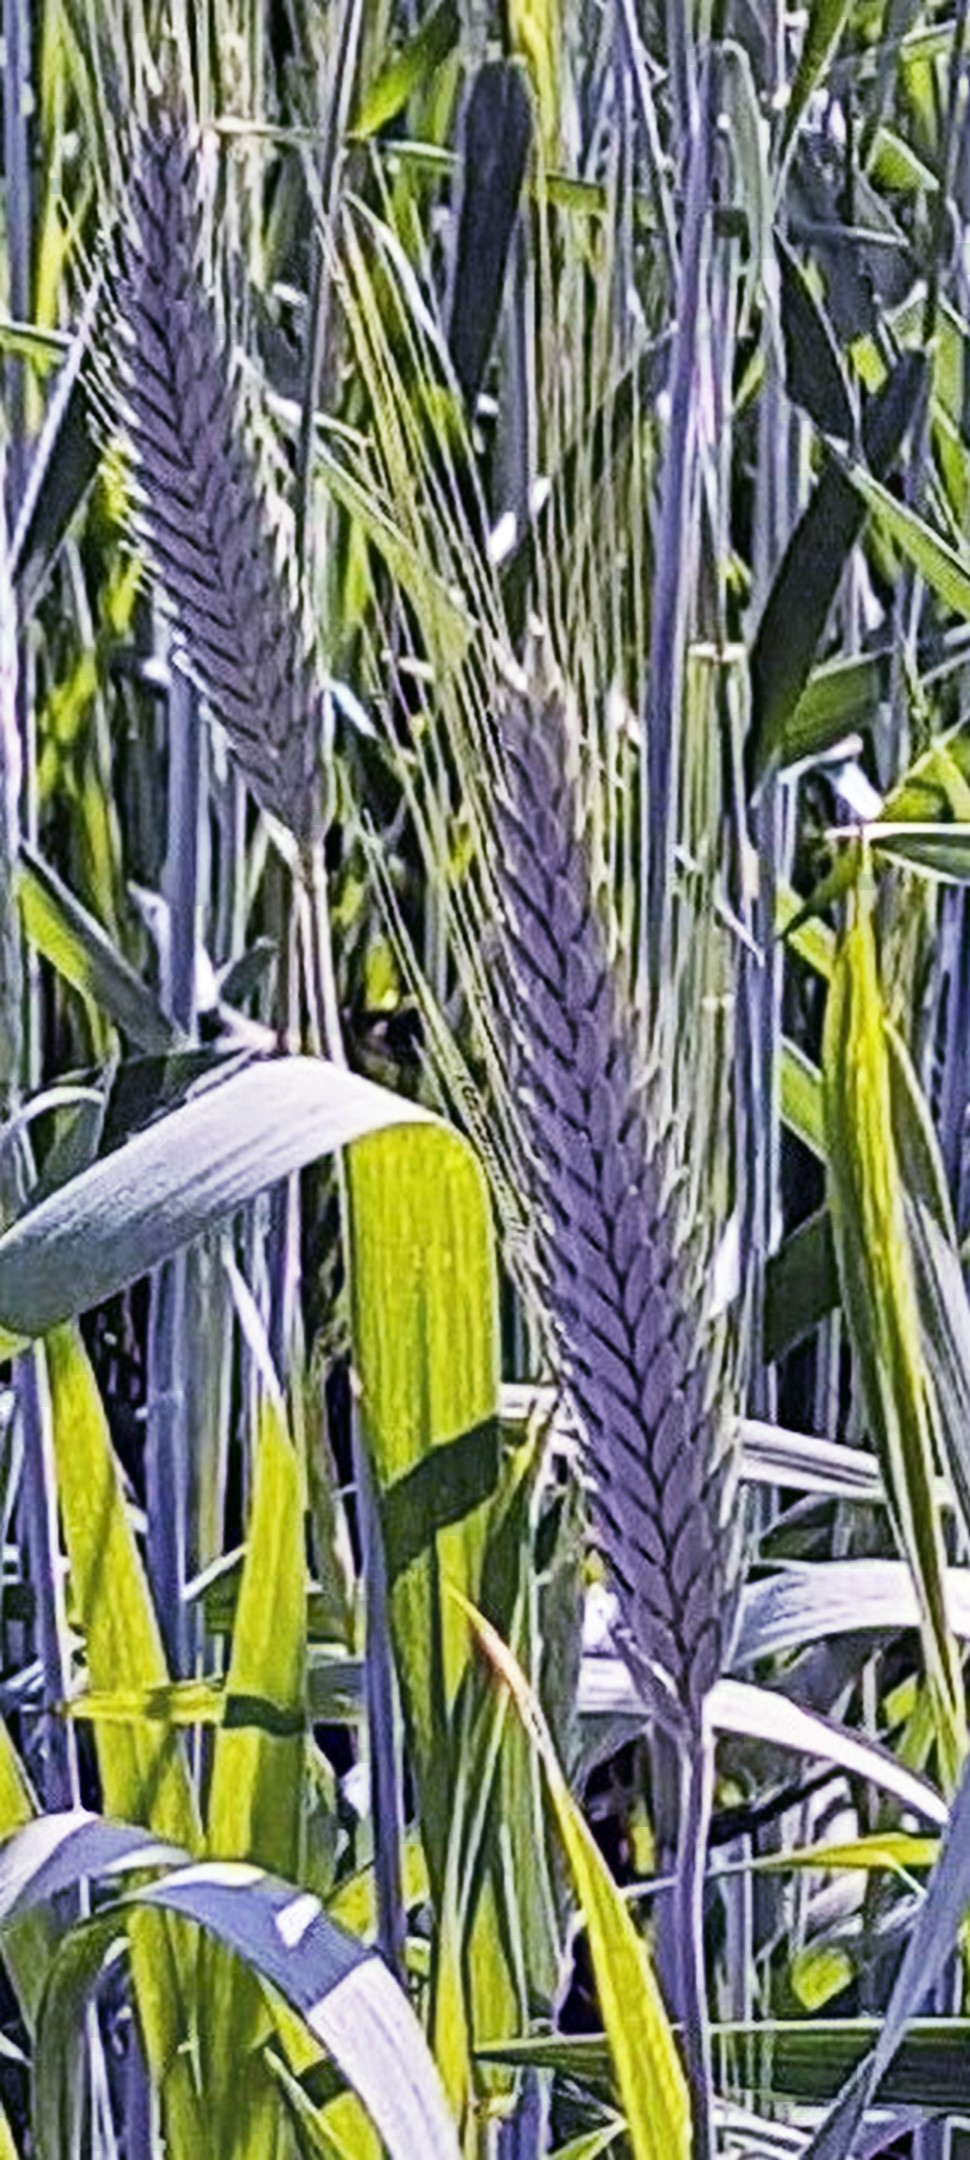Healthy Wheat: (85, 56, 344, 827)
